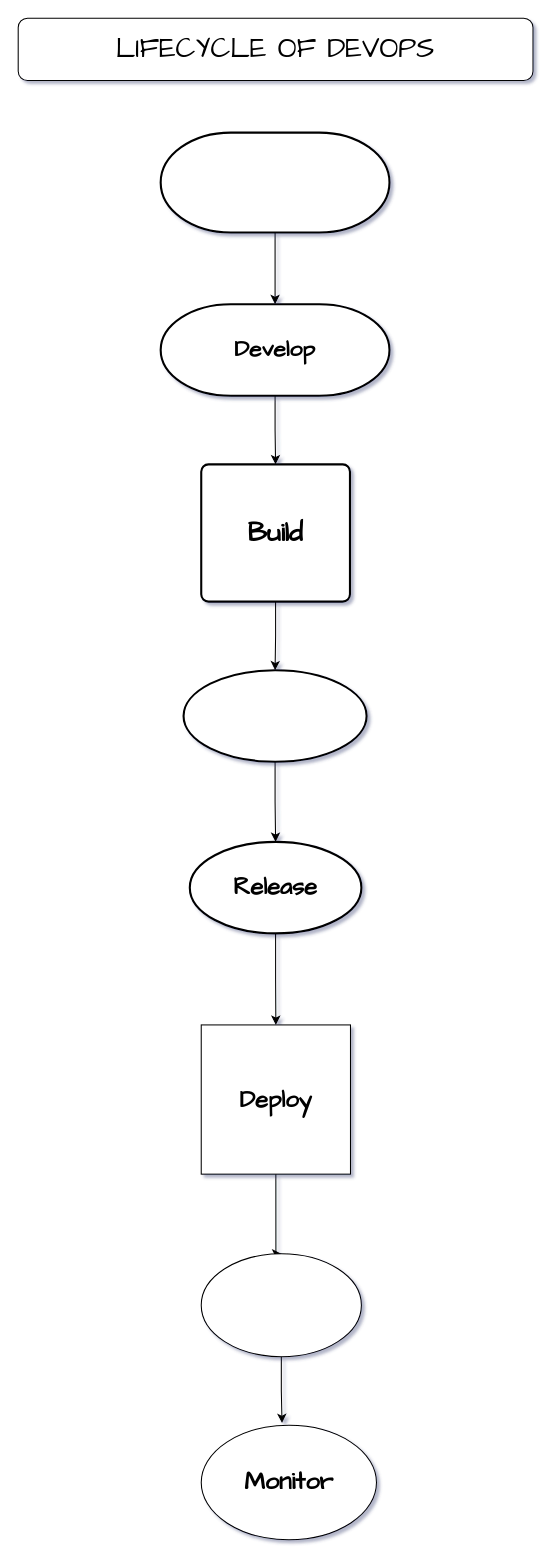
Image size: 557x1564. Some labels were removed from this diagram. The shapes that lost their labels are listed below. From the top down, each one's centre as x and y in pixels, then its label:
At (274,182): "Plan".
At (274,715): "Text".
At (280,1305): "Operate".
